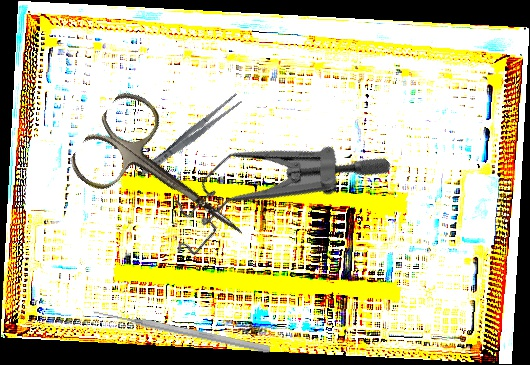Dressing Forceps: (137, 91, 244, 180)
Iris Scissors: (64, 83, 272, 277)
Pusher: (90, 306, 272, 355)
Speculum: (148, 73, 396, 318)
